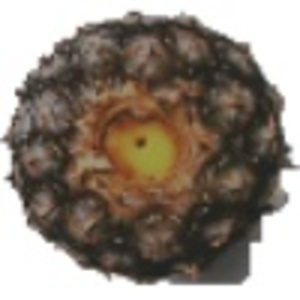abacaxi: (8, 11, 286, 278)
